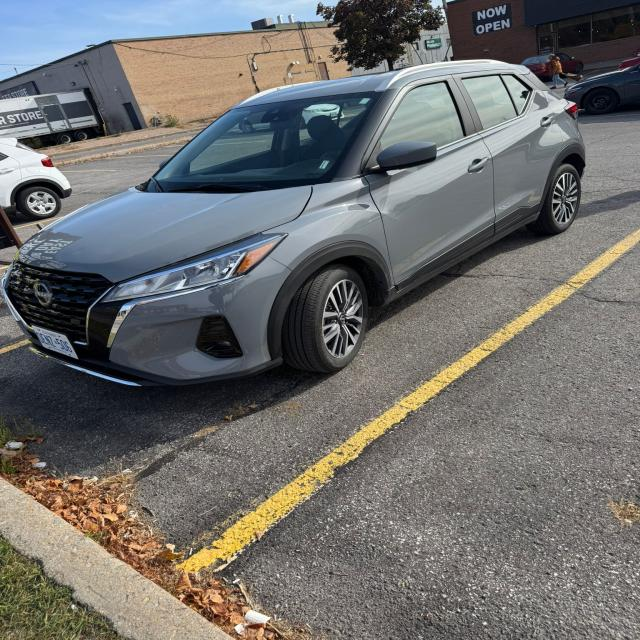plaque: (32, 326, 77, 359)
